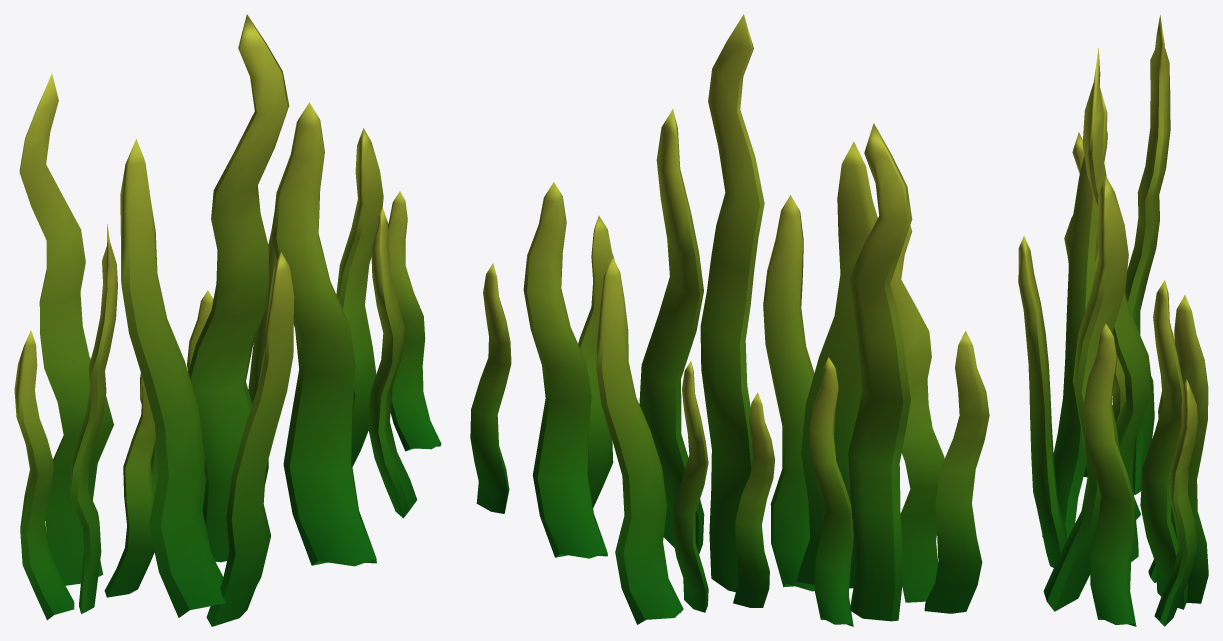
Rendered from FBX_ALGUES.fbx.
3 renders of one model, left to right at view 1: azimuth 30°, elevation 25°; view 2: azimuth 150°, elevation 25°; view 3: azimuth 270°, elevation 25°, orthographic. The views are drawn at different scales.
Parts seen in each view (by area): view 1: ALGUE; view 2: ALGUE; view 3: ALGUE.
Boxes of the visible parts, box(x1,y1,x2,y2) form: ALGUE: box(14, 14, 441, 626); ALGUE: box(470, 14, 989, 626); ALGUE: box(1018, 15, 1208, 626).
Bounding box in the file's own units: 11.45 × 13.59 × 4.39.
